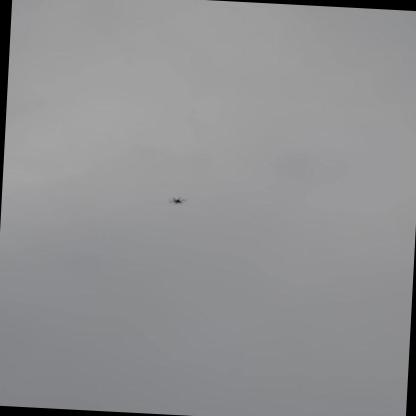drone: (166, 194, 189, 207)
